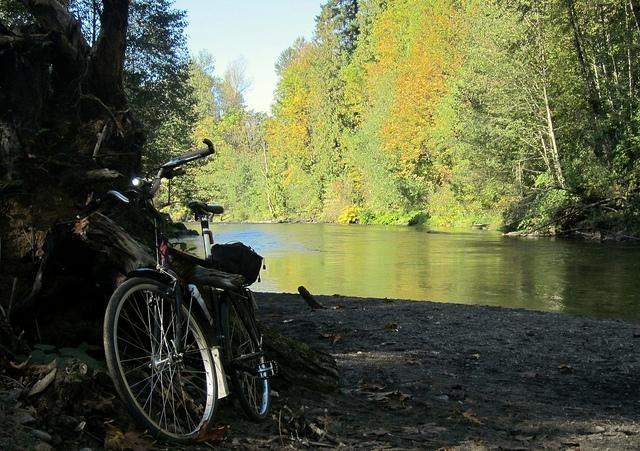bicycle: (77, 138, 276, 422)
